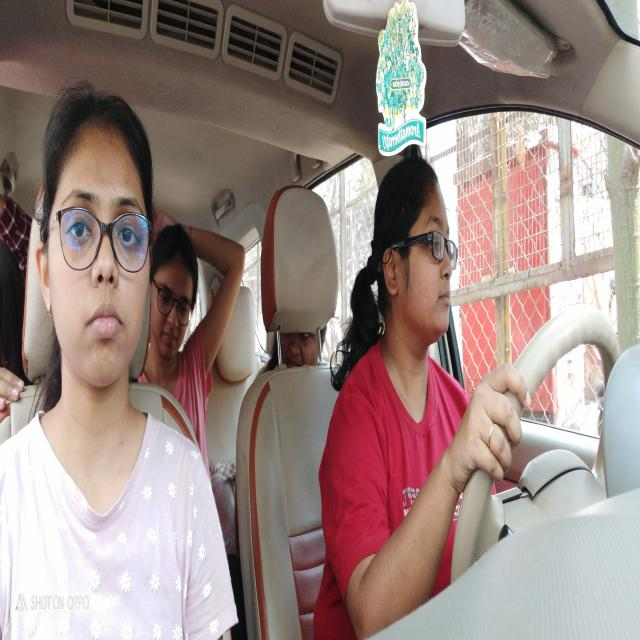person: (36, 70, 156, 406), (375, 154, 463, 384), (147, 215, 197, 372)
